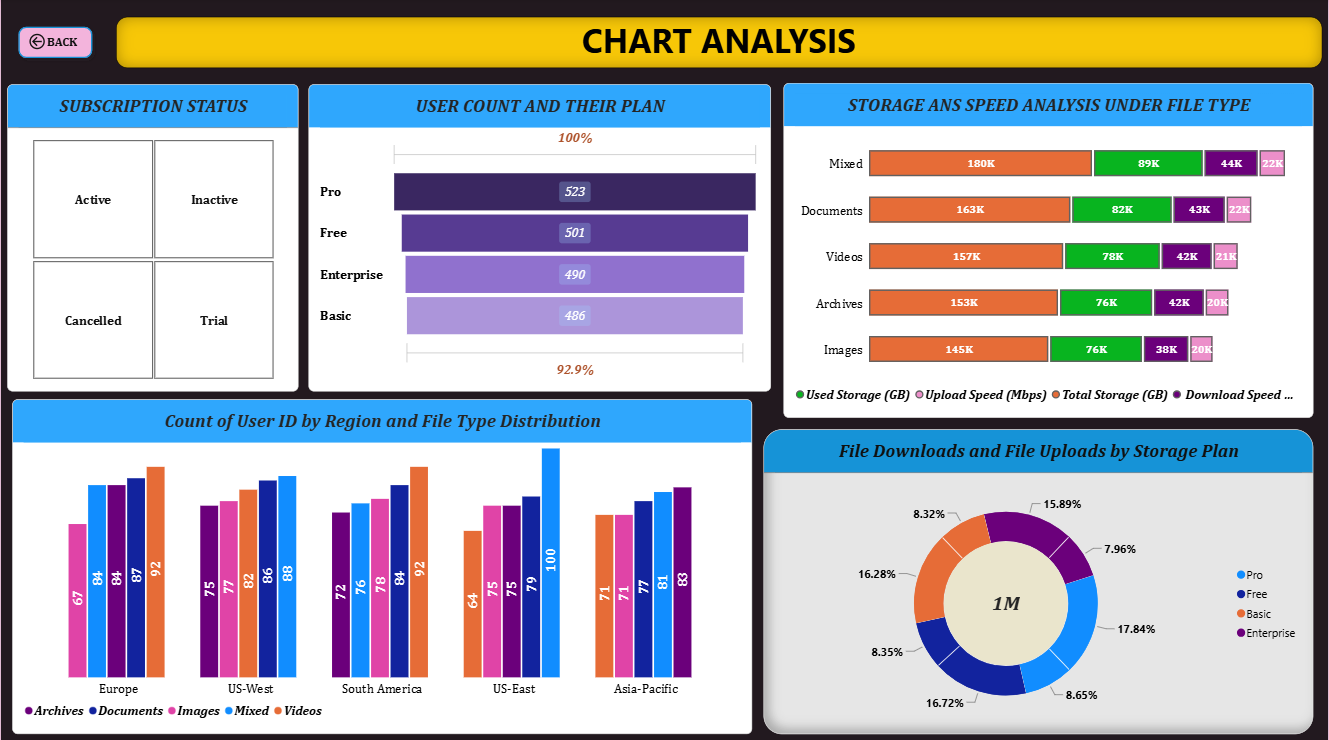

Layout of this report page (visuals, bound fields, positions):
{"tool":"powerbi","page":{"name":"CHART ANALYSIS","canvas":[1920,1080],"ordinal":2},"visuals":[{"type":"textbox","box":[166.5,27.1,1746.3,74.2],"z":0},{"type":"funnel","title":"USER COUNT AND THEIR PLAN","fields":{"Category":["DIM-1(STORAGE DIMENSION).Storage Plan"],"Y":["CountNonNull(FACT_TABLE.User ID)"]},"box":[445.2,124.9,669.6,445.2],"z":1000},{"type":"barChart","title":"STORAGE ANS SPEED ANALYSIS UNDER FILE TYPE","fields":{"Category":["DIM-2(FILE DIMENSION).File Type Distribution"],"Y":["Sum(FACT_TABLE.Used Storage (GB))","Sum(FACT_TABLE.Upload Speed (Mbps))","Sum(FACT_TABLE.Total Storage (GB))","Sum(FACT_TABLE.Download Speed (Mbps))"]},"box":[1132.8,123.1,767.3,485],"z":2000},{"type":"clusteredColumnChart","fields":{"Category":["DIM-4(REGION DIMENSION).Region"],"Series":["DIM-2(FILE DIMENSION).File Type Distribution"],"Y":["CountNonNull(FACT_TABLE.User ID)"]},"box":[16.3,580.9,1071.3,485],"z":3000},{"type":"donutChart","fields":{"Category":["DIM-1(STORAGE DIMENSION).Storage Plan"],"Y":["Sum(FACT_TABLE.File Downloads)","Sum(FACT_TABLE.File Uploads)"]},"box":[1103.9,624.3,796.3,441.6],"z":4000},{"type":"actionButton","box":[16.3,32.6,124.9,63.3],"z":5000},{"type":"slicer","title":"SUBSCRIPTION STATUS","fields":{"Values":["DIM-3(SUB DIMENSION).Subscription Status"]},"box":[9,124.9,421.7,445.2],"z":5001}]}

Visuals, with their boxes in screenshot pixels (x1, y1, x2, y2), scaled from the page's 1920x1080 canvas onto the 1329x740 screenshot:
textbox: bbox=[115, 19, 1324, 69]
"USER COUNT AND THEIR PLAN" funnel: bbox=[308, 86, 772, 391]
"STORAGE ANS SPEED ANALYSIS UNDER FILE TYPE" barChart: bbox=[784, 84, 1315, 417]
clusteredColumnChart - DIM-4(REGION DIMENSION).Region x DIM-2(FILE DIMENSION).File Type Distribution: bbox=[11, 398, 753, 730]
donutChart - DIM-1(STORAGE DIMENSION).Storage Plan x Sum(FACT_TABLE.File Downloads): bbox=[764, 428, 1315, 730]
actionButton: bbox=[11, 22, 98, 66]
"SUBSCRIPTION STATUS" slicer: bbox=[6, 86, 298, 391]
